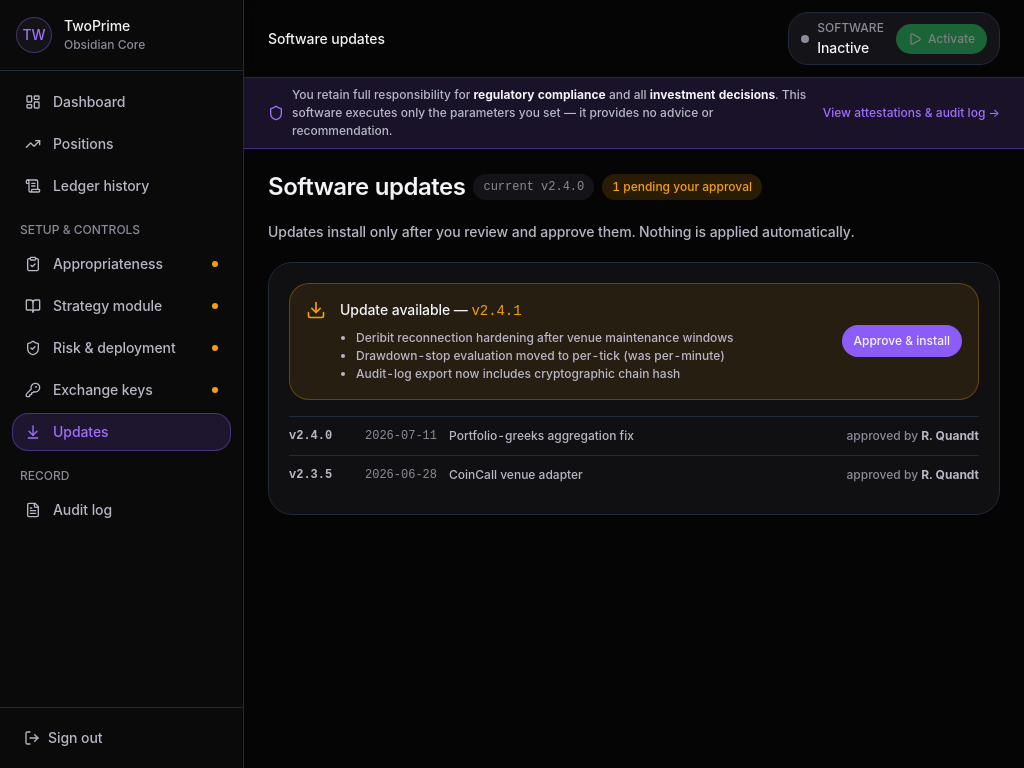
Test: ClientPortalShell › shows an error banner and leaves the update pending when the approval save fails
The width and height of the screenshot is (1024, 768).
Click the button "Approve & install": (902,341) [842, 325, 962, 357]
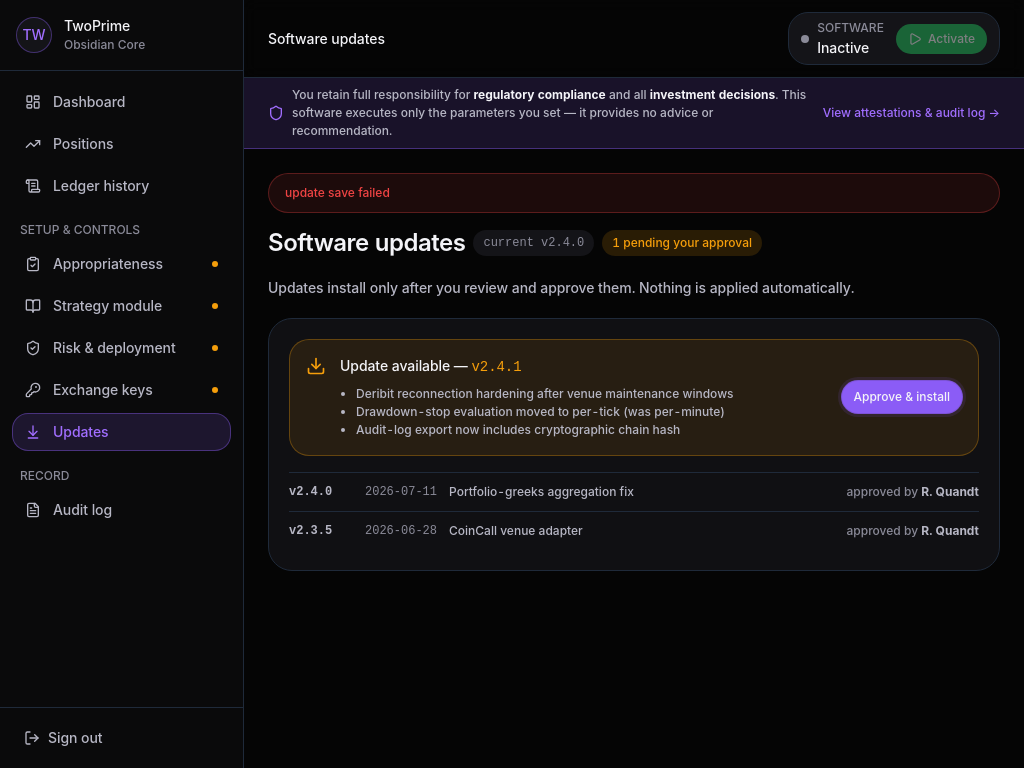
Expected: the button "Approve & install" is shown, [842, 381, 962, 413]
Now the text "update save failed" is shown, box [268, 173, 1000, 213]
